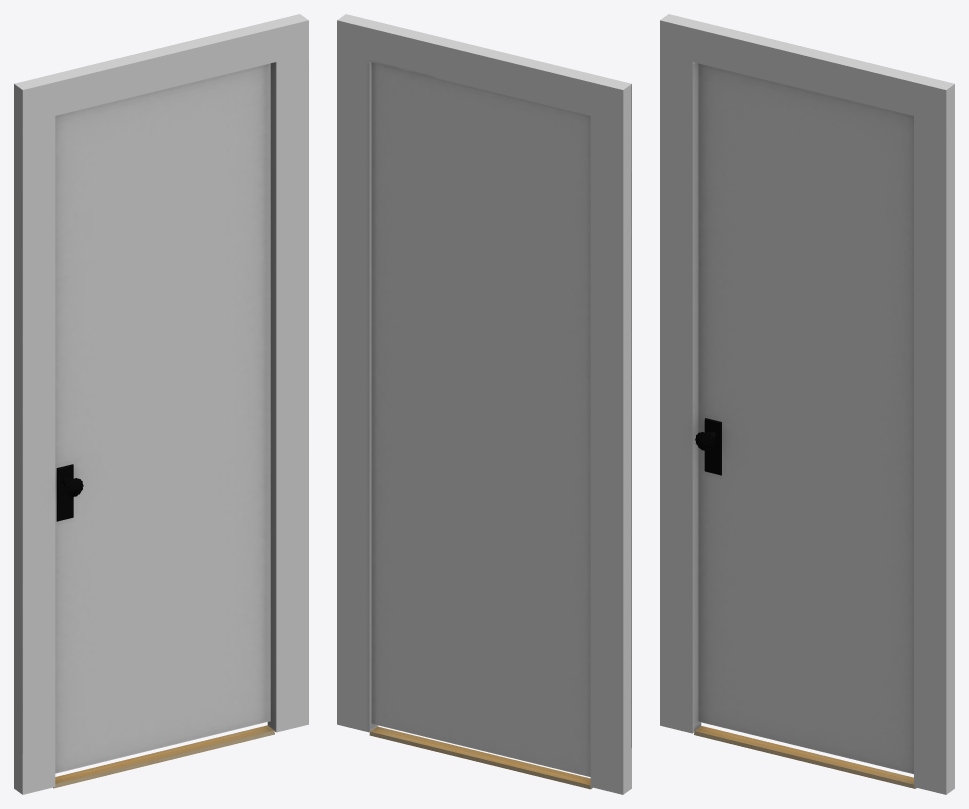
The model's file is door.glb.
The picture shows the model from 3 angles, left to right: view 1: azimuth 30°, elevation 25°; view 2: azimuth 150°, elevation 25°; view 3: azimuth 330°, elevation 25°; orthographic projection.
Parts seen in each view (by area): view 1: geo_opq_doorframes_colorable, geo_opq_base, geo_opq_handle; view 2: geo_opq_doorframes_colorable, geo_opq_base; view 3: geo_opq_doorframes_colorable, geo_opq_base, geo_opq_handle.
Boxes of the visible parts, x1=… form: geo_opq_doorframes_colorable: x1=14, y1=14, x2=308, y2=794; geo_opq_base: x1=53, y1=725, x2=274, y2=788; geo_opq_handle: x1=56, y1=464, x2=83, y2=521; geo_opq_doorframes_colorable: x1=337, y1=14, x2=631, y2=794; geo_opq_base: x1=369, y1=726, x2=592, y2=789; geo_opq_doorframes_colorable: x1=660, y1=14, x2=954, y2=794; geo_opq_base: x1=694, y1=726, x2=916, y2=788; geo_opq_handle: x1=695, y1=418, x2=721, y2=475.
Size of the model in its own units: 0.8601 by 2.03 by 0.0752.
Materials: 3 (2 with a texture image).
